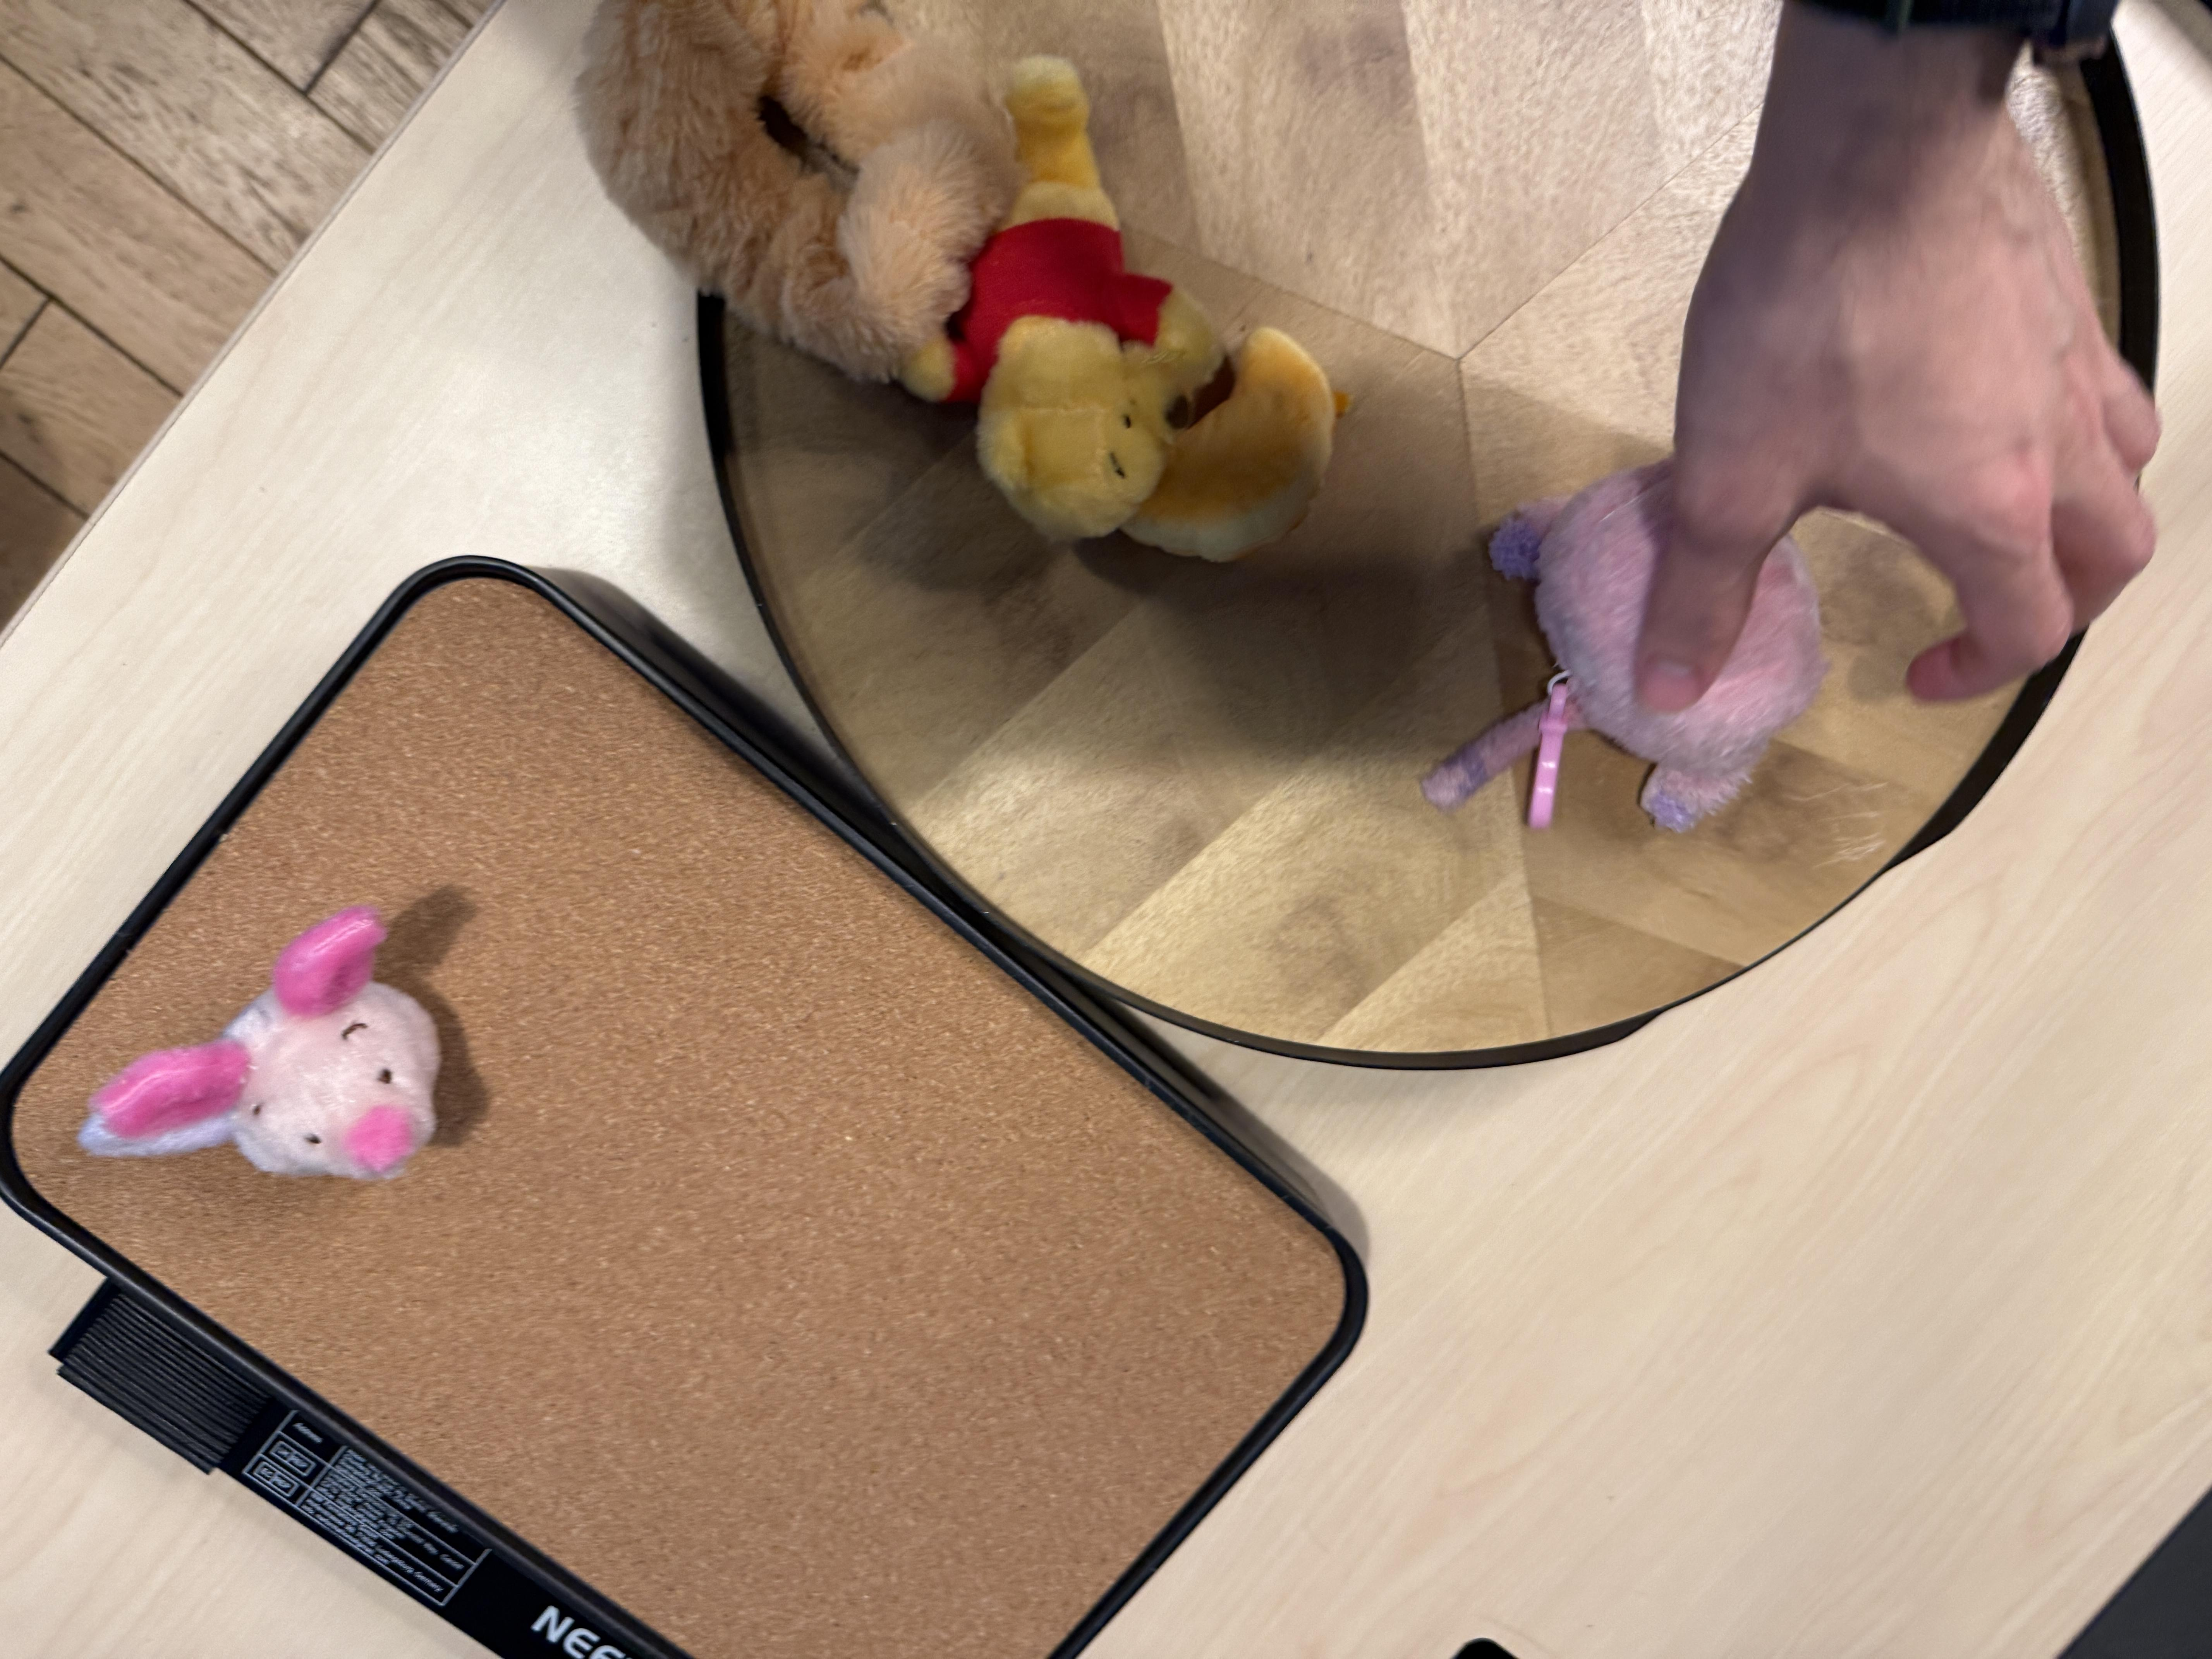bread: (1115, 326, 1338, 565)
doll: (566, 0, 1226, 540), (1432, 465, 1829, 831), (77, 911, 446, 1187)
